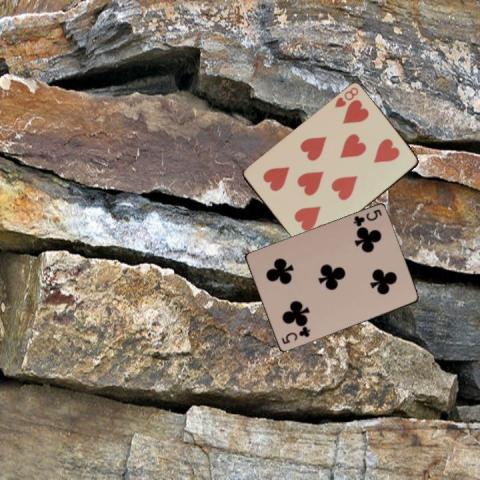5c: (278, 325, 311, 346), (350, 207, 383, 228)
8h: (331, 85, 360, 109)
